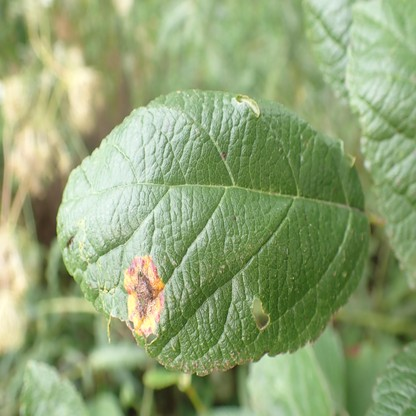rust: (124, 256, 165, 335)
